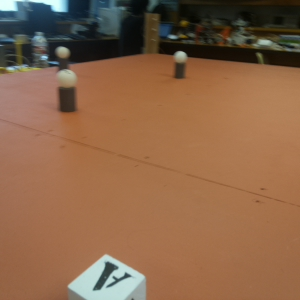blockA: (68, 249, 144, 300)
corner: (142, 10, 162, 59)
obstacle: (48, 68, 87, 115), (171, 49, 191, 82), (54, 44, 73, 65)
